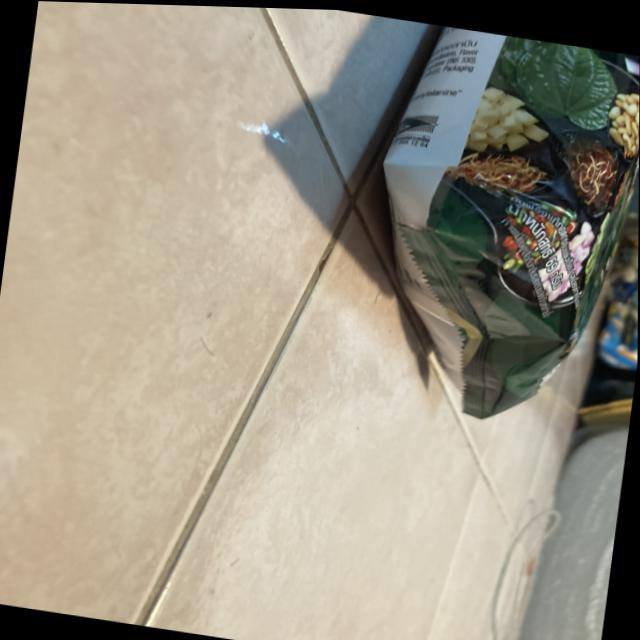Laygreen: (322, 12, 640, 457)
